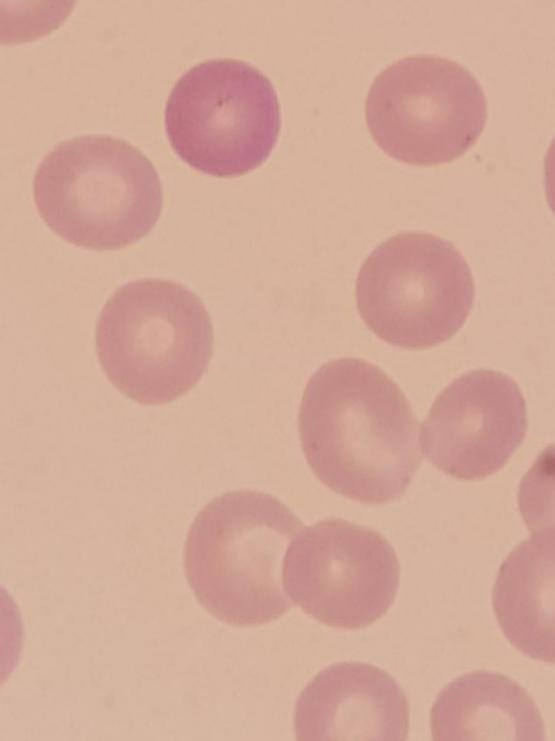Uninfected: (294, 358, 420, 504), (182, 489, 305, 629), (27, 131, 163, 249), (91, 279, 214, 405), (351, 230, 477, 350), (163, 57, 282, 180), (361, 51, 488, 165), (281, 519, 400, 630), (419, 368, 531, 484), (292, 663, 406, 740)
